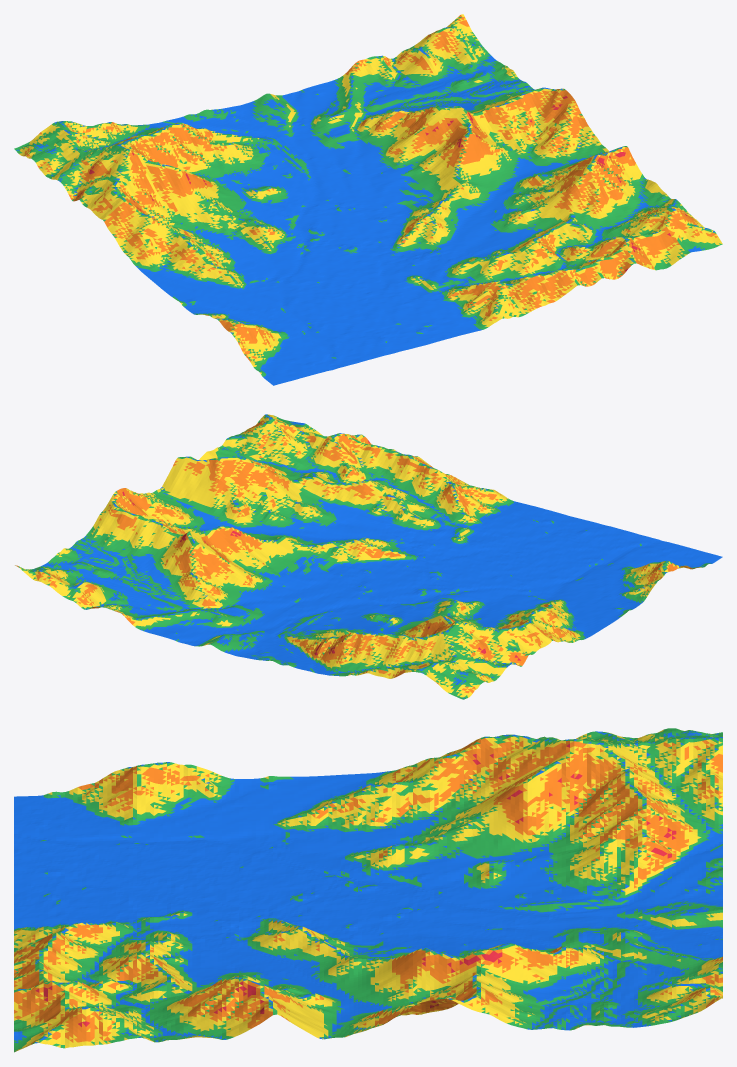
The model's file is terrain.glb.
3 renders of one model, top to bottom at view 1: azimuth 30°, elevation 25°; view 2: azimuth 150°, elevation 25°; view 3: azimuth 270°, elevation 25°, orthographic. The views are drawn at different scales.
Parts seen in each view (by area): view 1: Terrain_BlenderGIS; view 2: Terrain_BlenderGIS; view 3: Terrain_BlenderGIS.
Part boxes in pixels (x1,y1,x2,y2): Terrain_BlenderGIS: (14, 14, 722, 385); Terrain_BlenderGIS: (15, 414, 722, 699); Terrain_BlenderGIS: (14, 728, 722, 1052).
Size of the model in its own units: 5000 by 768 by 5000.
